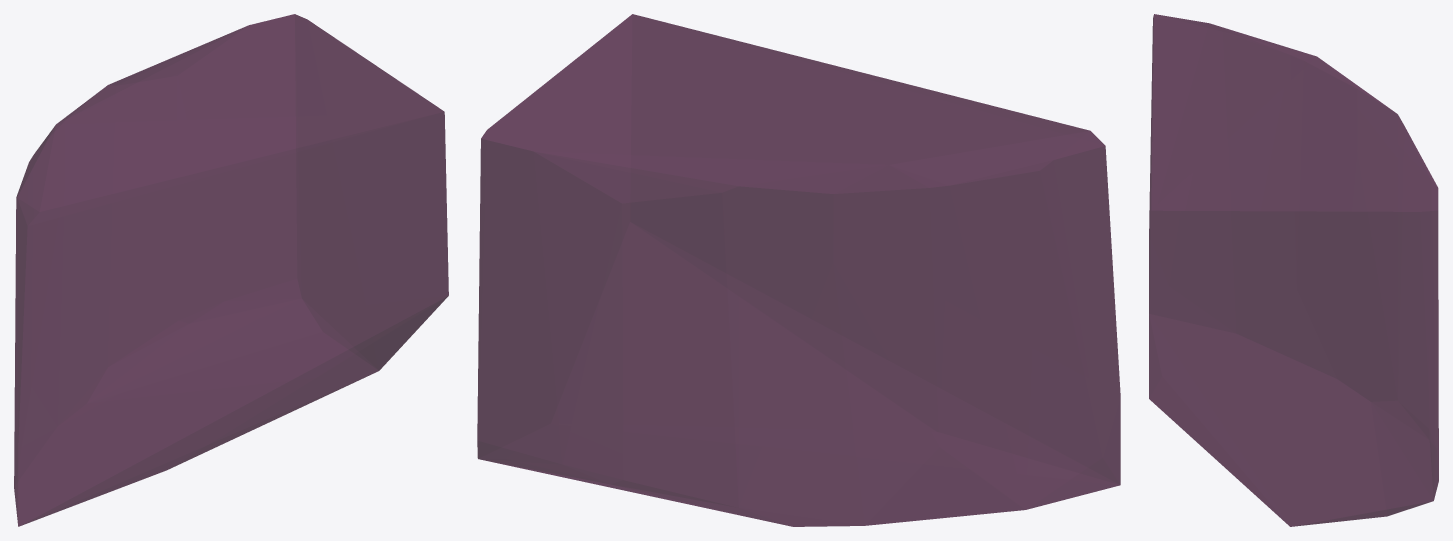
The picture shows the model from 3 angles, left to right: view 1: azimuth 30°, elevation 25°; view 2: azimuth 150°, elevation 25°; view 3: azimuth 270°, elevation 25°; orthographic projection. The views are drawn at different scales.
Parts seen in each view (by area): view 1: Shape_IndexedFaceSet.009_Shape_IndexedFaceSet.5685; view 2: Shape_IndexedFaceSet.009_Shape_IndexedFaceSet.5685; view 3: Shape_IndexedFaceSet.009_Shape_IndexedFaceSet.5685.
Part boxes in pixels (bbox=[...]): Shape_IndexedFaceSet.009_Shape_IndexedFaceSet.5685: bbox=[14, 14, 448, 526]; Shape_IndexedFaceSet.009_Shape_IndexedFaceSet.5685: bbox=[477, 14, 1120, 526]; Shape_IndexedFaceSet.009_Shape_IndexedFaceSet.5685: bbox=[1149, 14, 1438, 526].
Size of the model in its own units: 0.2369 by 0.1642 by 0.1361.
